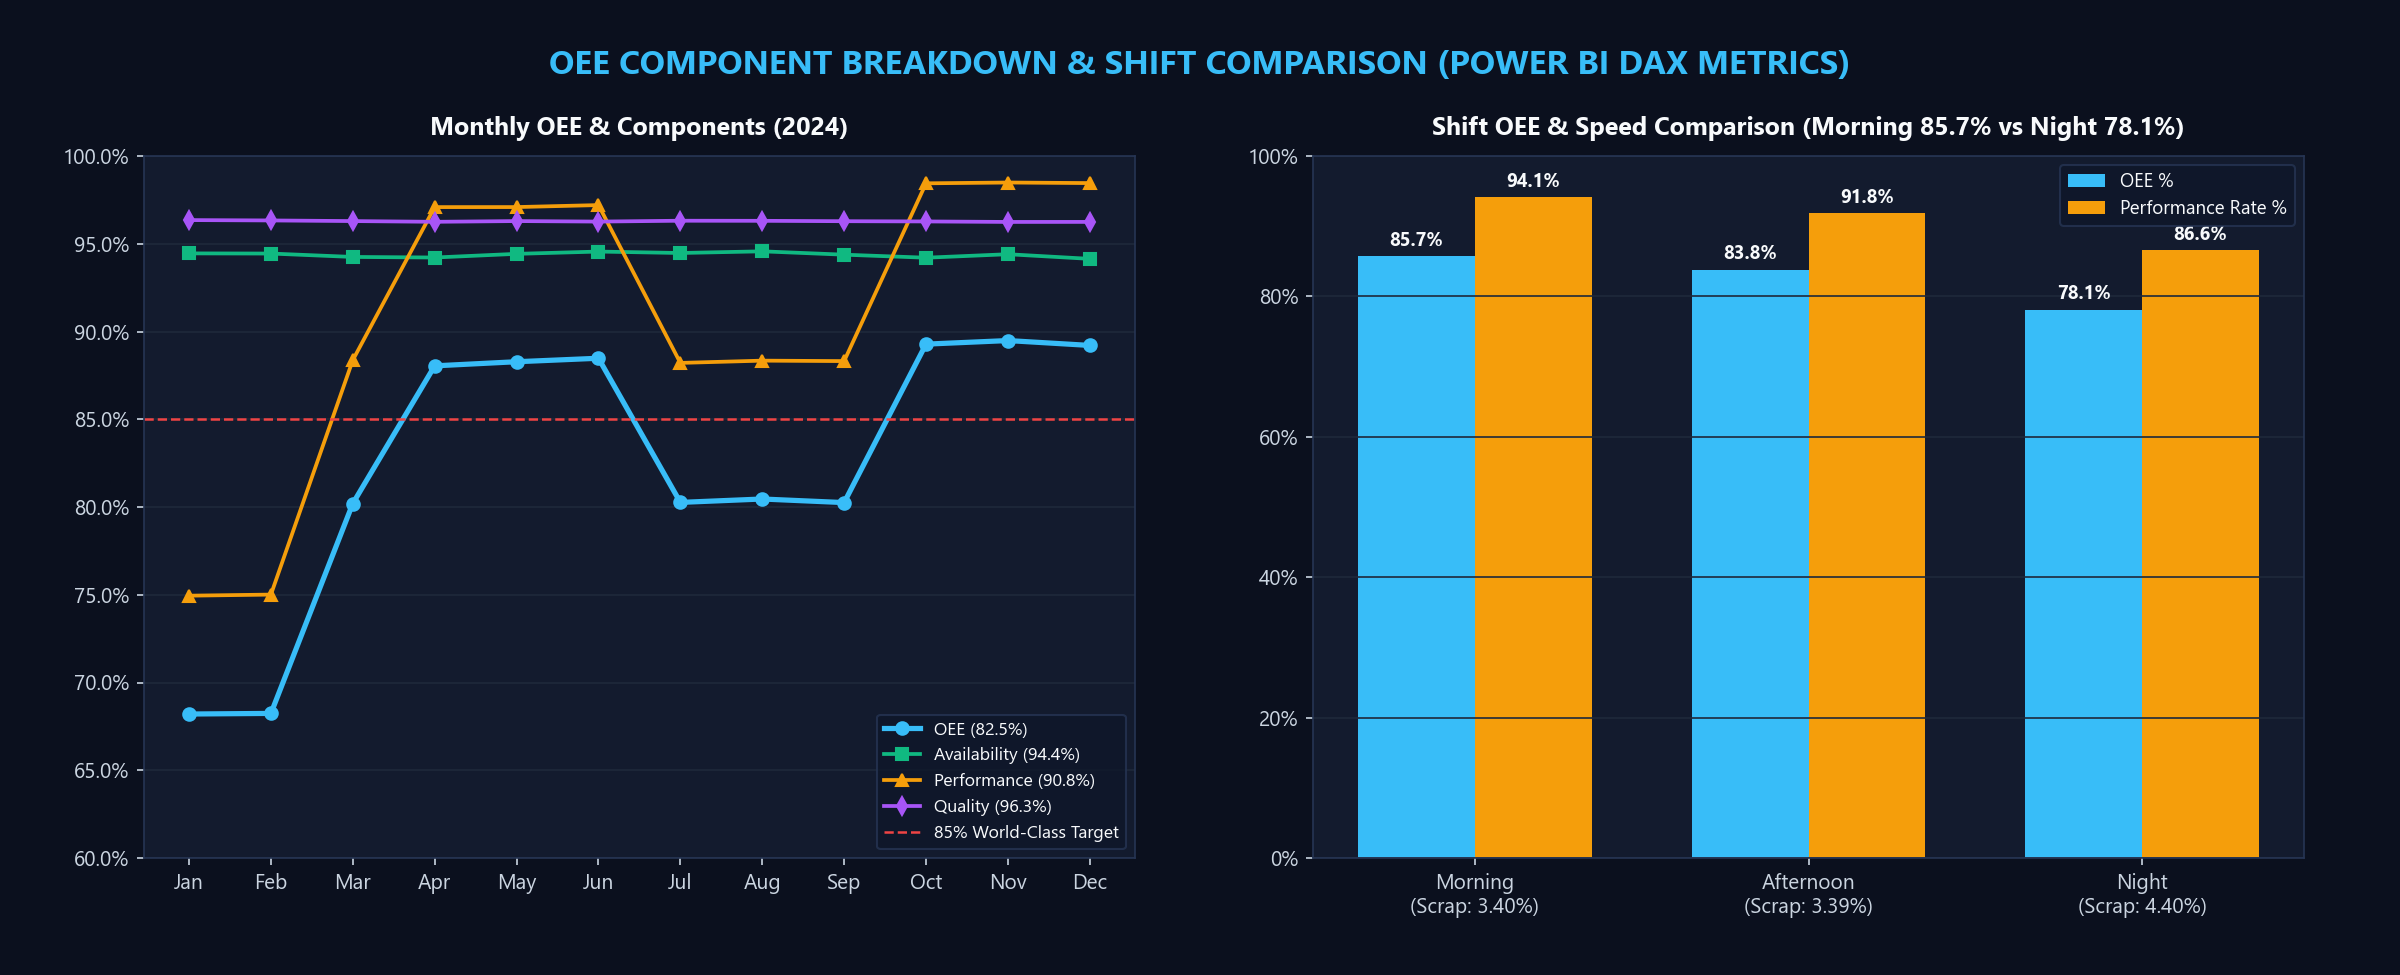

The page's visual inventory and layout, read from the dashboard file:
{"tool":"powerbi","page":{"name":"3. OEE Component Trends","canvas":[1920,1080],"ordinal":2},"visuals":[{"type":"image","box":[60,20,1800,1040],"z":100}]}

Visuals, with their boxes on the page's 1920x1080 design canvas (x1, y1, x2, y2). These are canvas units, not pixel positions in the 2400x975 screenshot, which may show the page scaled, cropped or inside an application window:
image: [60, 20, 1860, 1060]
